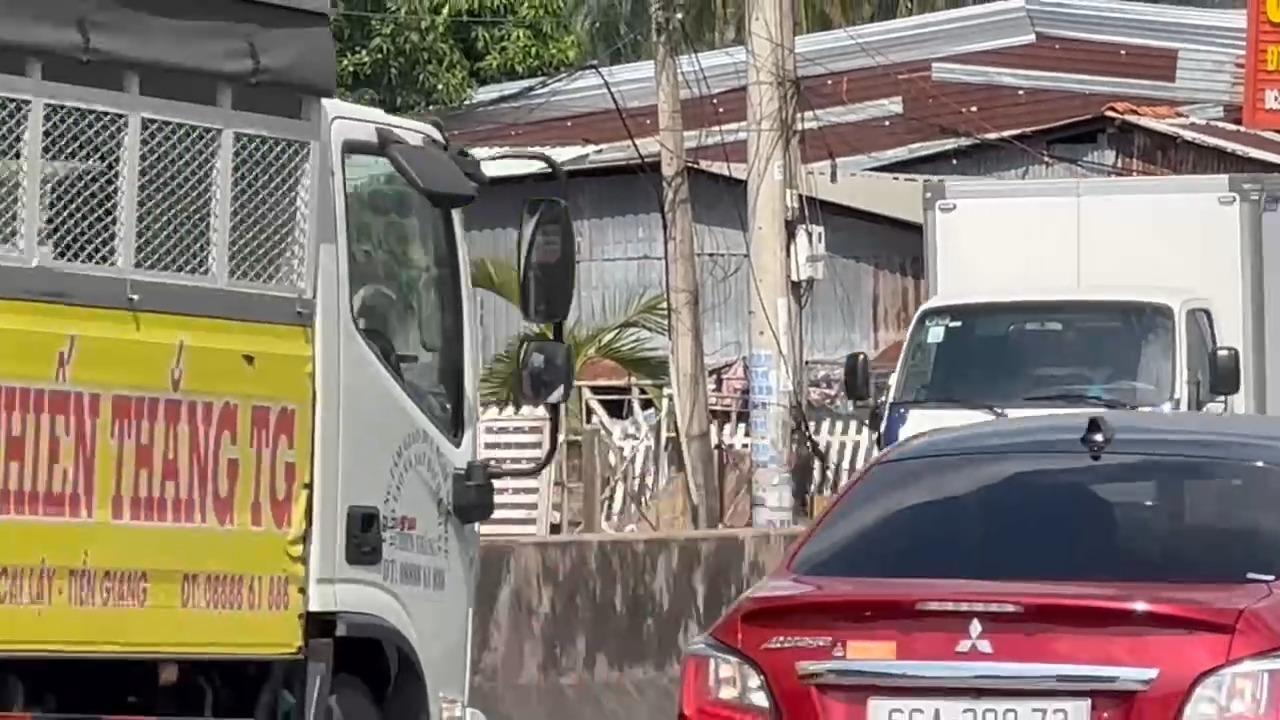bien_so: (864, 693, 1092, 719)
